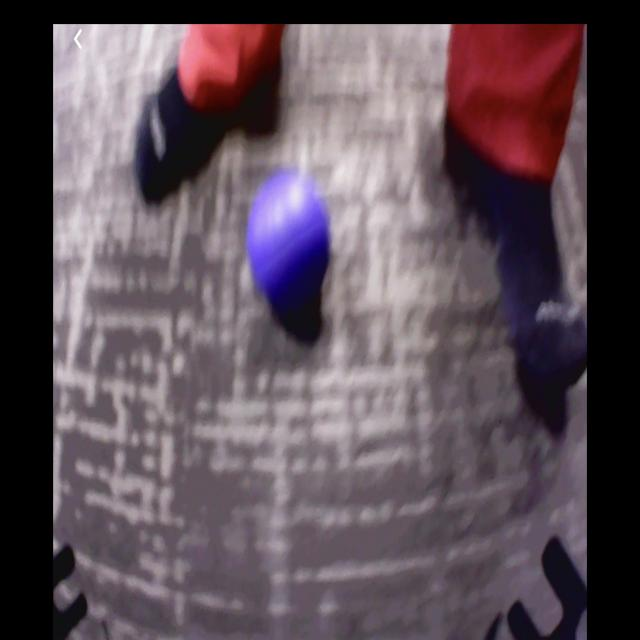ball: (250, 182, 331, 302)
